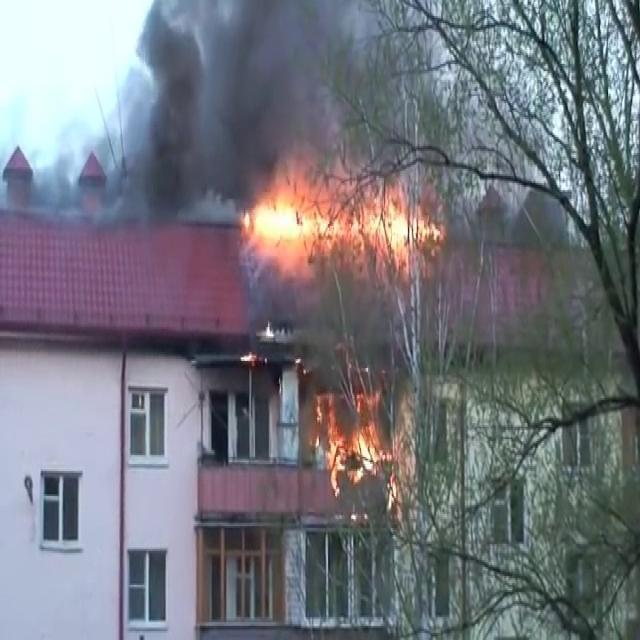Fire: (244, 174, 444, 265), (308, 382, 398, 496)
Smoke: (54, 0, 394, 217)
